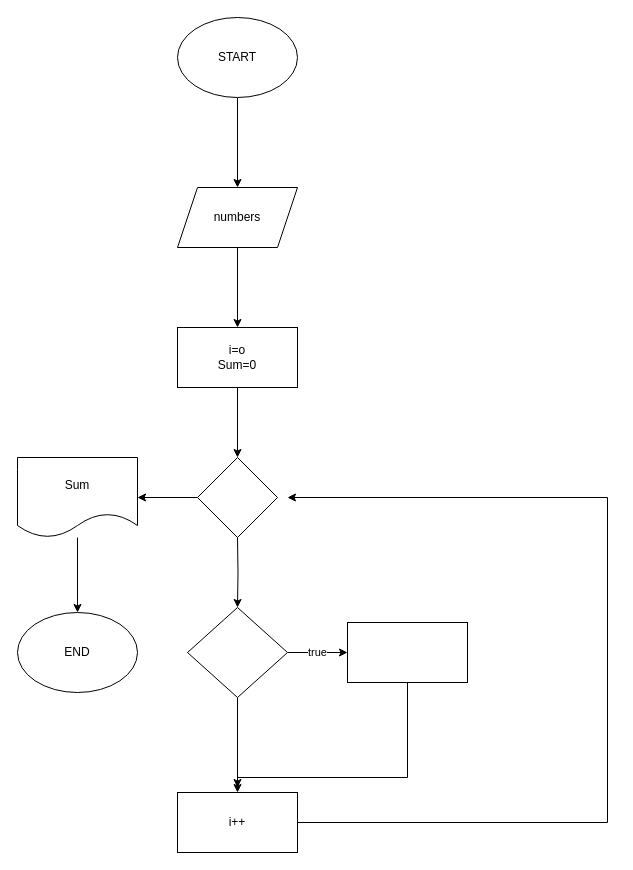
Some shapes in this 633 by 870 pixel diagram are drawn without their labels. Each missing label, with the centre of its shape:
"i<num length" belongs at point (237, 497).
"numbers[i]<10" belongs at point (237, 652).
"Sum+=numbers[i]" belongs at point (407, 652).
